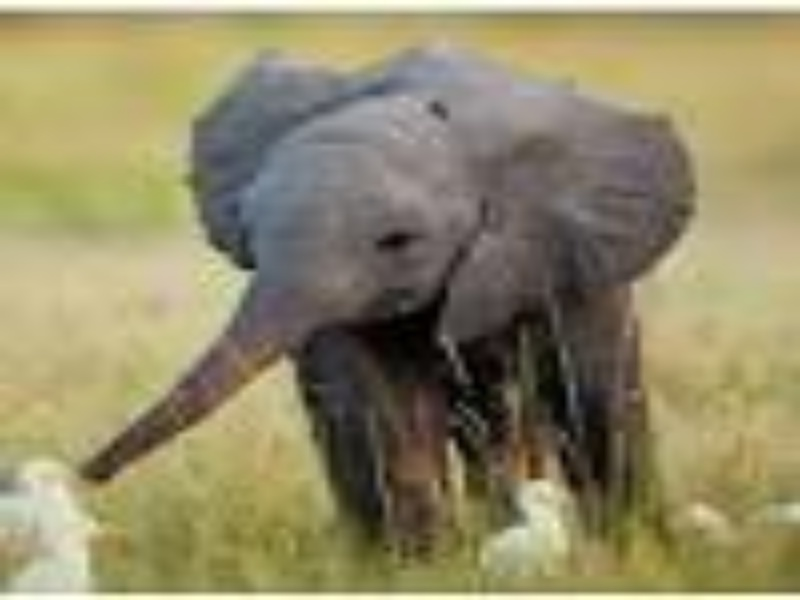elephant: (81, 47, 680, 500)
